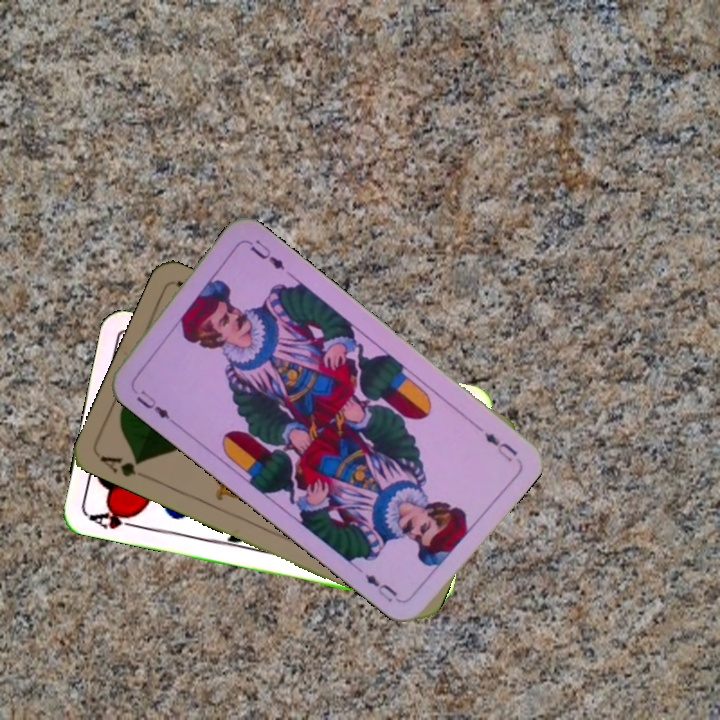EU: (480, 428, 521, 465), (132, 386, 173, 422)
GA: (95, 451, 145, 480)
HA: (85, 504, 144, 532)
